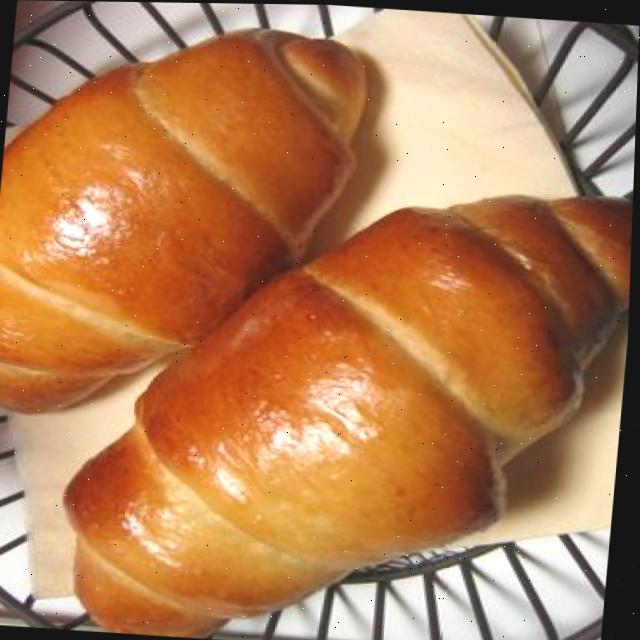面包点心: (0, 10, 377, 436)
